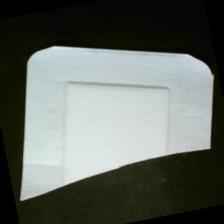Cut: (1, 17, 224, 208)
